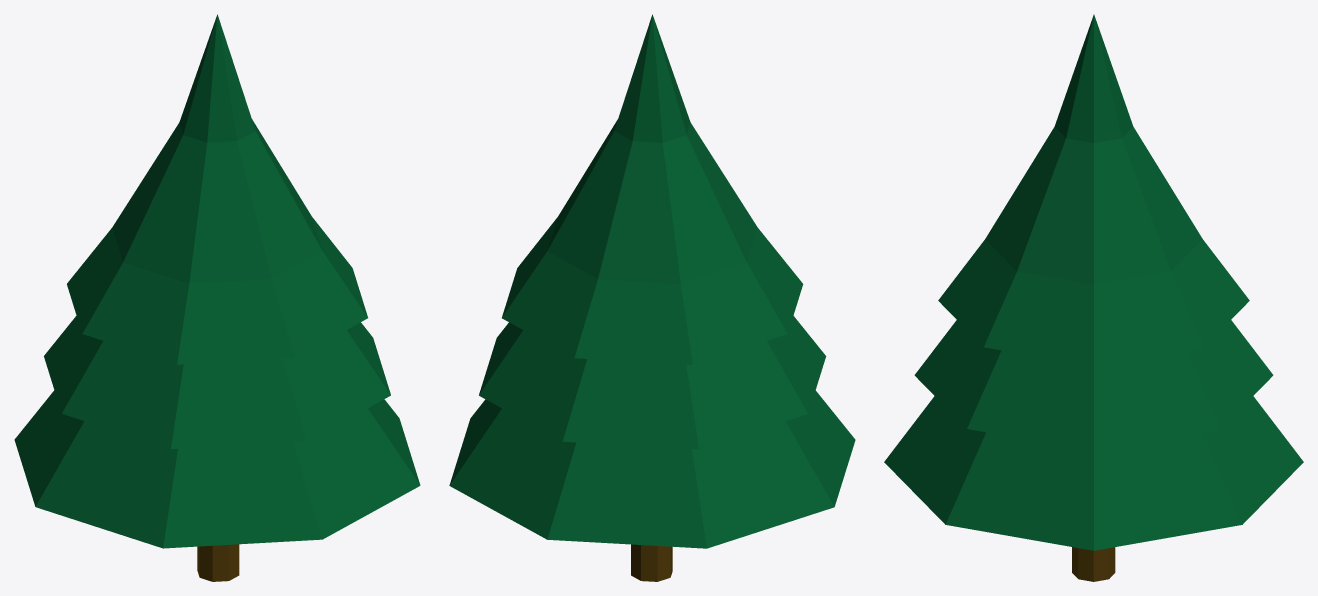
Rendered from small_pine.fbx.
3 renders of one model, left to right at view 1: azimuth 30°, elevation 25°; view 2: azimuth 150°, elevation 25°; view 3: azimuth 270°, elevation 25°, orthographic.
Visible parts, largest first — view 1: small_pine; view 2: small_pine; view 3: small_pine.
Boxes of the visible parts, x1,y1,x2,y2 form: small_pine: [14, 14, 420, 581]; small_pine: [449, 14, 855, 581]; small_pine: [884, 14, 1303, 581].
Bounding box in the file's own units: 79.94 × 117 × 79.94.
